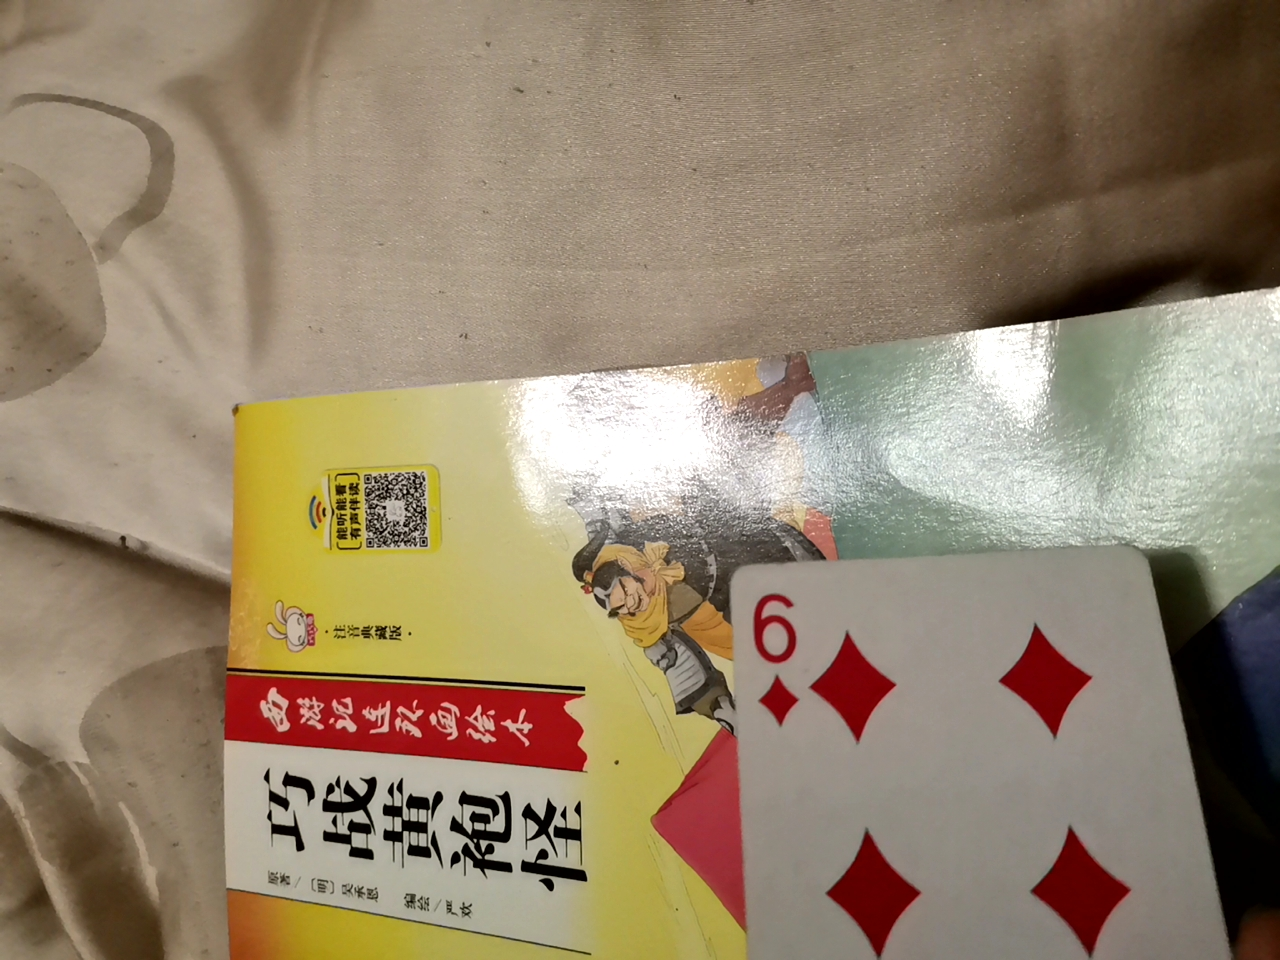fk 6: (737, 527, 1227, 950)
